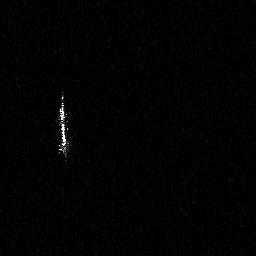ship: (54, 92, 70, 159)
